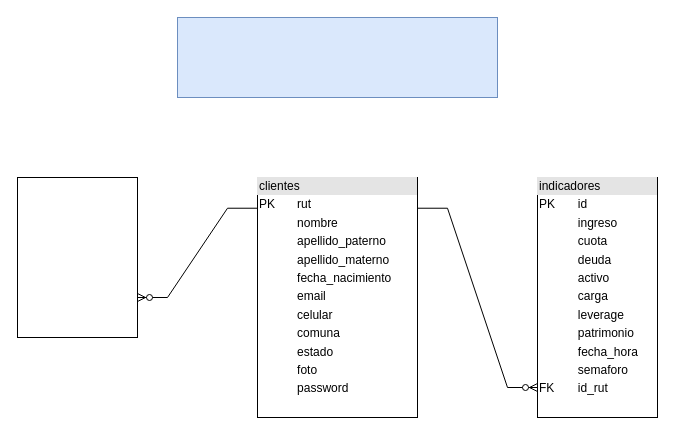
Image size: 675x435. Some labels were removed from this diagram. Each missing label, with the box of its shape:
citas PK id fecha hora comentario estado FK id_rut: (16, 176, 138, 338)
Diagrama Lógico: (176, 16, 498, 98)
